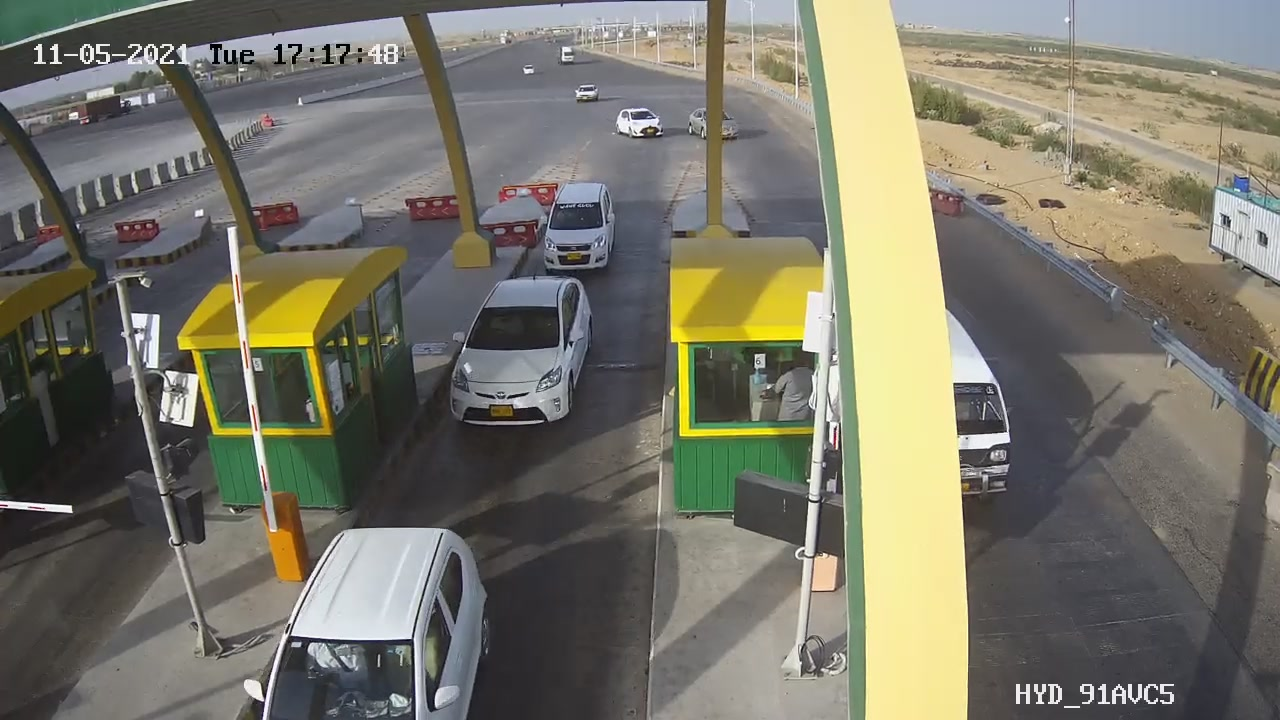F1: (438, 262, 609, 442), (527, 175, 630, 281)
